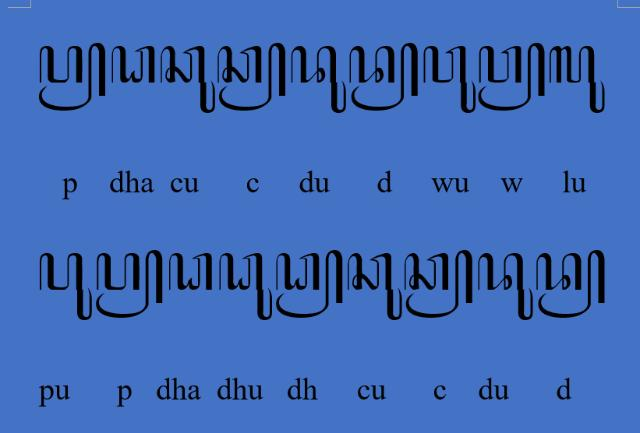-c: (404, 248, 476, 320), (218, 42, 288, 112)
-d: (535, 248, 607, 320), (348, 42, 420, 112)
-dh: (274, 249, 344, 319)
-p: (37, 43, 107, 114), (96, 248, 164, 320)
-w: (476, 42, 546, 112)
cu: (348, 250, 404, 322), (160, 45, 217, 115)
dh: (110, 43, 156, 85), (168, 250, 214, 291)
dhu: (218, 252, 274, 322)
du: (476, 252, 534, 322), (290, 46, 348, 114)
lu: (549, 44, 607, 114)
pu: (37, 250, 93, 322)
wu: (422, 46, 478, 114)
